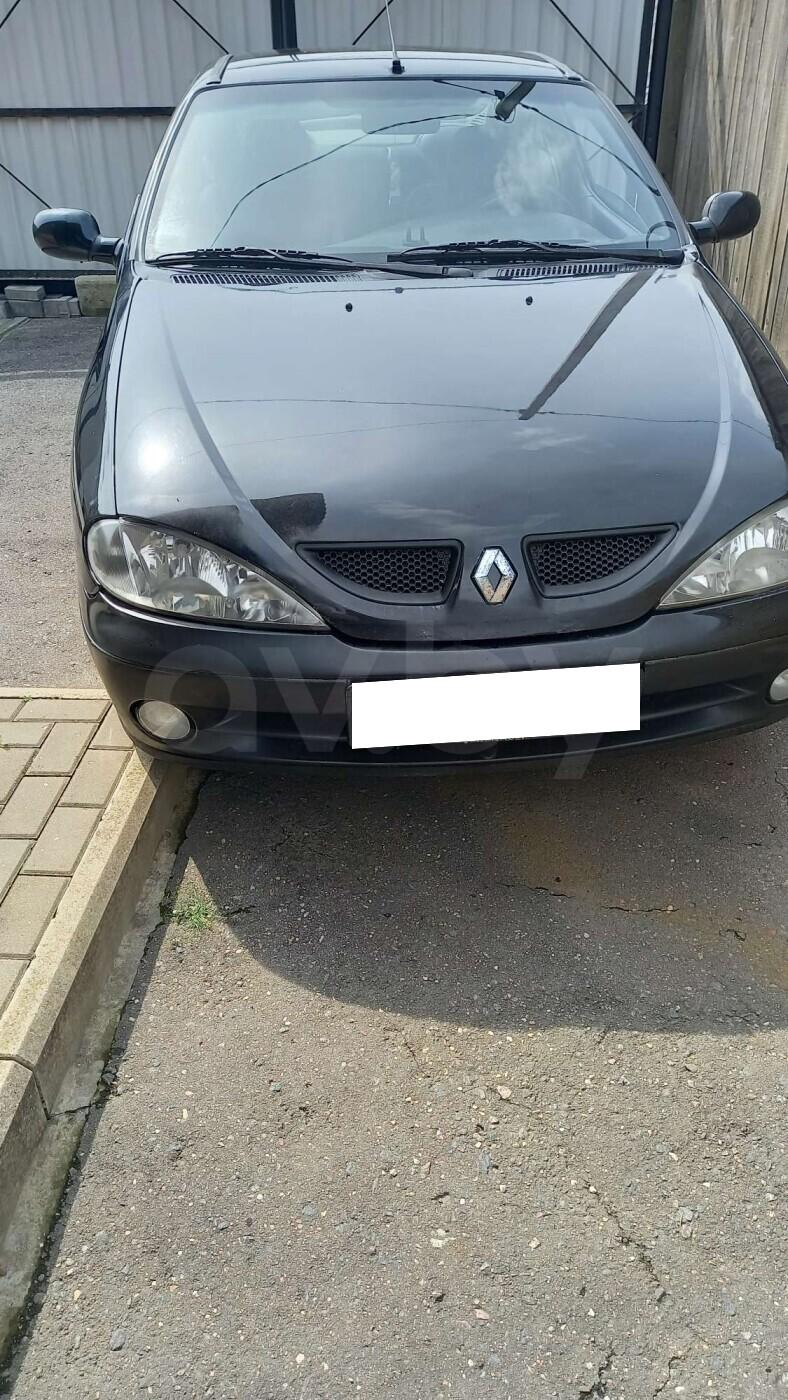Megane_1999-2003: (80, 42, 788, 800)
